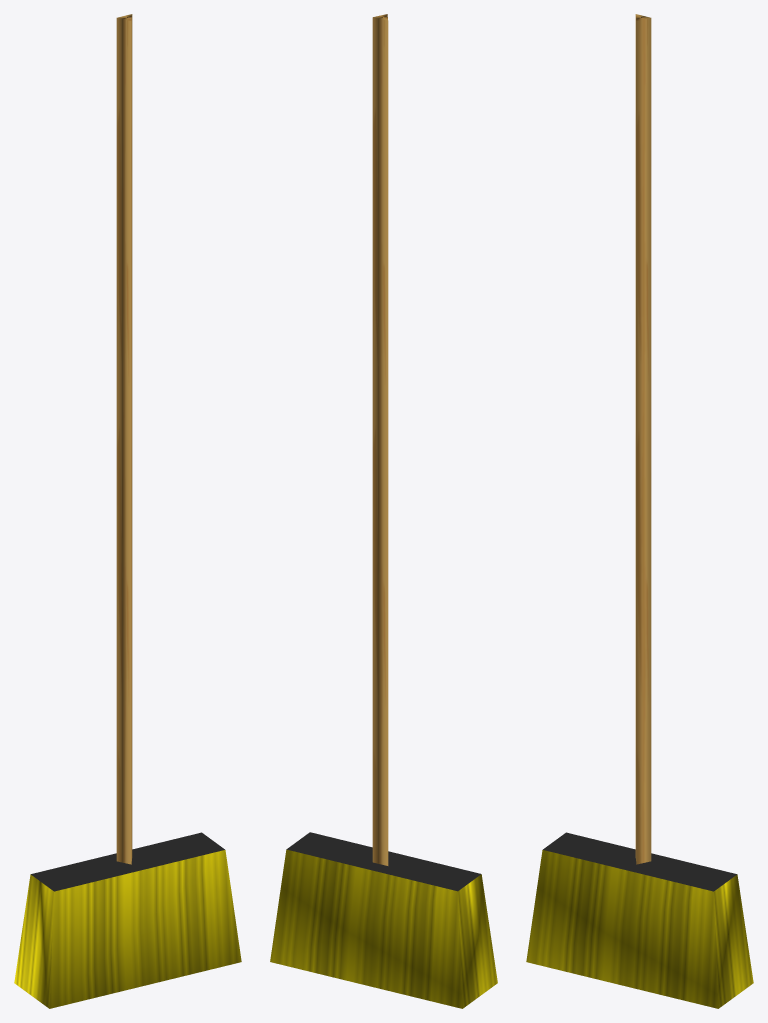
The model's file is Broom.fbx.
3 renders of one model, left to right at view 1: azimuth 30°, elevation 25°; view 2: azimuth 150°, elevation 25°; view 3: azimuth 330°, elevation 25°, orthographic.
Parts seen in each view (by area): view 1: Maya_File_Assets:TexturedAssetsCurrent:Hanifen_Quinton_Week7; view 2: Maya_File_Assets:TexturedAssetsCurrent:Hanifen_Quinton_Week7; view 3: Maya_File_Assets:TexturedAssetsCurrent:Hanifen_Quinton_Week7.
Boxes of the visible parts, x1,y1,x2,y2 form: Maya_File_Assets:TexturedAssetsCurrent:Hanifen_Quinton_Week7: (14,14,241,1008); Maya_File_Assets:TexturedAssetsCurrent:Hanifen_Quinton_Week7: (270,14,497,1008); Maya_File_Assets:TexturedAssetsCurrent:Hanifen_Quinton_Week7: (526,14,753,1008).
Bounding box in the file's own units: 0.3355 × 1.59 × 0.1066.
